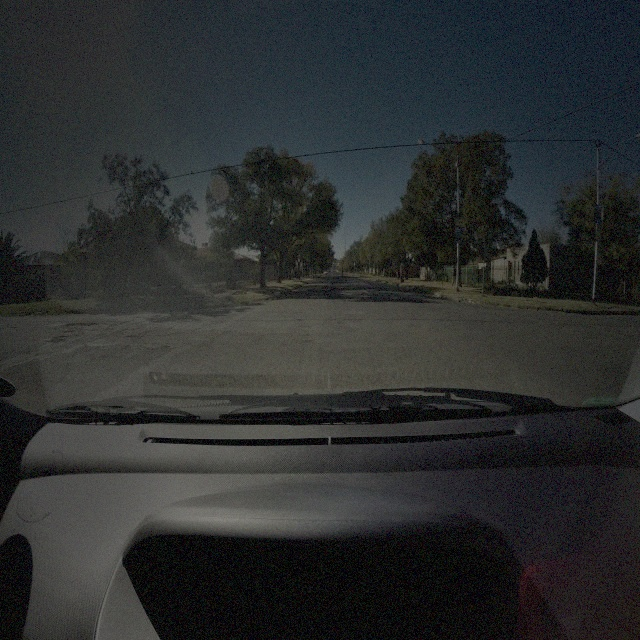pothole: (51, 333, 70, 342), (70, 321, 94, 327)
